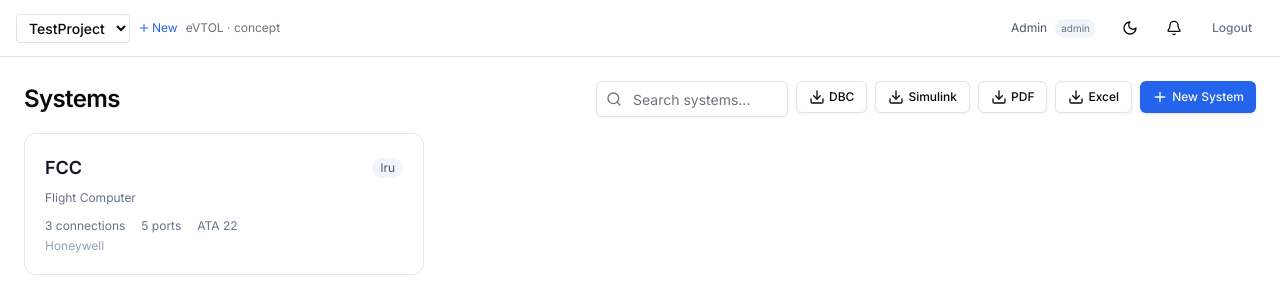
Test: Systems Page › search filters systems
Step 1. Type "zzz" into the field with placeholder "Search systems..." → [692, 99], box x1=596 y1=81 x2=788 y2=117
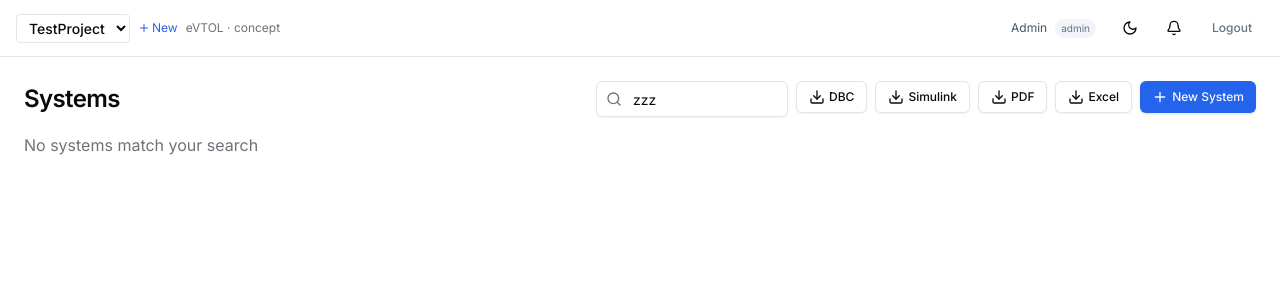
Expected: the text "No systems match your search" is shown, x1=24 y1=135 x2=258 y2=155
